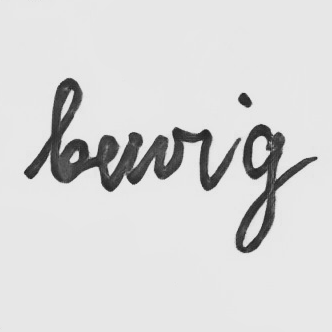b: (47, 76, 92, 185)
e: (94, 133, 122, 194)
g: (232, 121, 289, 255)
i: (192, 114, 220, 192)
w: (125, 125, 186, 187)
